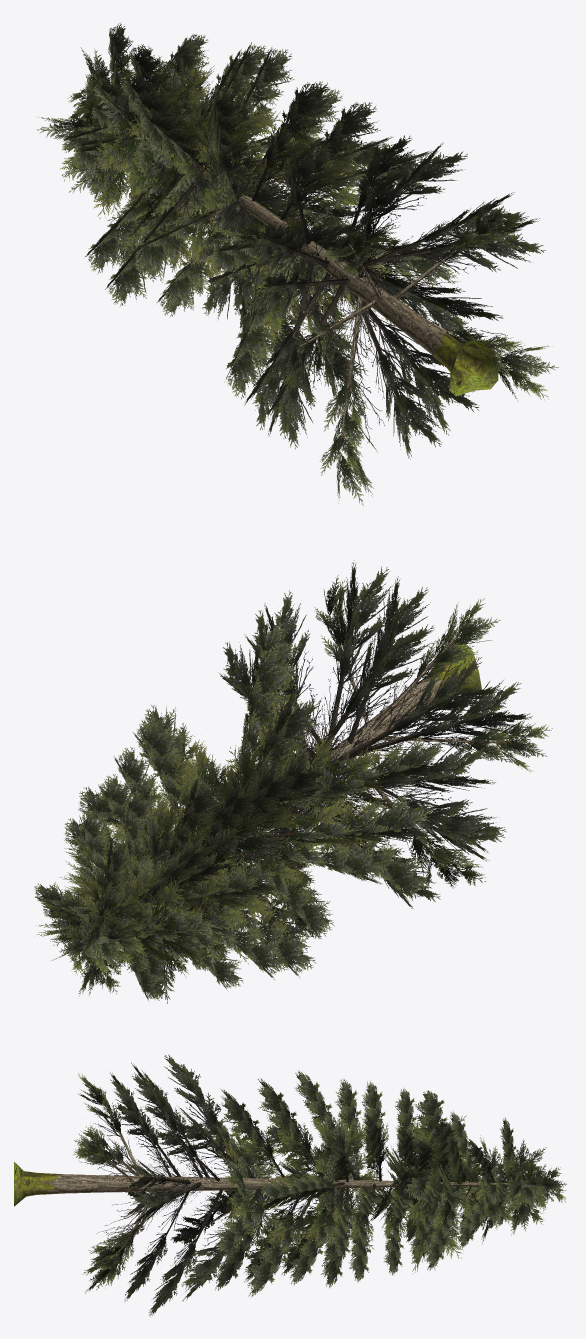
File: pine tree fg 1.fbx
The picture shows the model from 3 angles, top to bottom: view 1: azimuth 30°, elevation 25°; view 2: azimuth 150°, elevation 25°; view 3: azimuth 270°, elevation 25°; orthographic projection. The views are drawn at different scales.
Visible parts, largest first — view 1: Cylinder_003; view 2: Cylinder_003; view 3: Cylinder_003.
Part boxes in pixels (<box>): Cylinder_003: <box>36,22,558,505</box>; Cylinder_003: <box>34,560,552,1003</box>; Cylinder_003: <box>14,1055,566,1316</box>.
Bounding box in the file's own units: 6.71 × 6.96 × 14.12.
